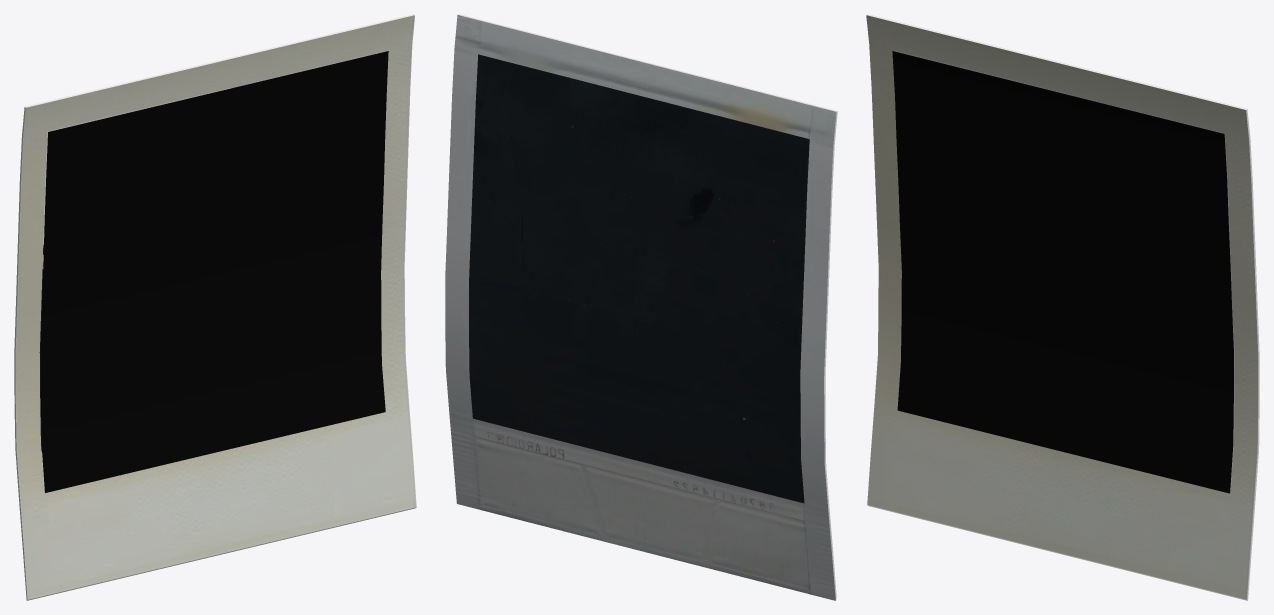
Rendered from polaroid.glb.
3 views of the same model, side by side, from view 1: azimuth 30°, elevation 25°; view 2: azimuth 150°, elevation 25°; view 3: azimuth 330°, elevation 25° (orthographic).
Visible parts, largest first — view 1: Object_3.001, Object_5, Object_3; view 2: Object_4, Object_5; view 3: Object_3.001, Object_5, Object_3.
Boxes of the visible parts, box(x1,y1,x2,y2) form: Object_3.001: box(40, 51, 388, 492); Object_5: box(14, 14, 416, 600); Object_3: box(39, 50, 387, 492); Object_4: box(469, 54, 809, 503); Object_5: box(445, 14, 837, 600); Object_3.001: box(892, 51, 1233, 493); Object_5: box(866, 14, 1259, 600); Object_3: box(893, 50, 1234, 492).
Size of the model in its own units: 3.66 by 4.47 by 0.2717.
Materials: 4 (4 with a texture image).
